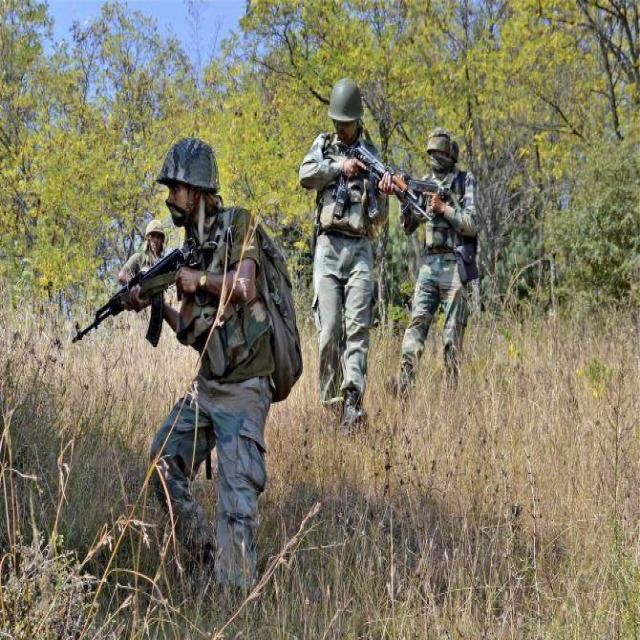Forest: (0, 5, 640, 640)
Militant: (140, 113, 296, 609), (290, 40, 393, 444), (380, 117, 486, 399), (122, 192, 172, 340)
